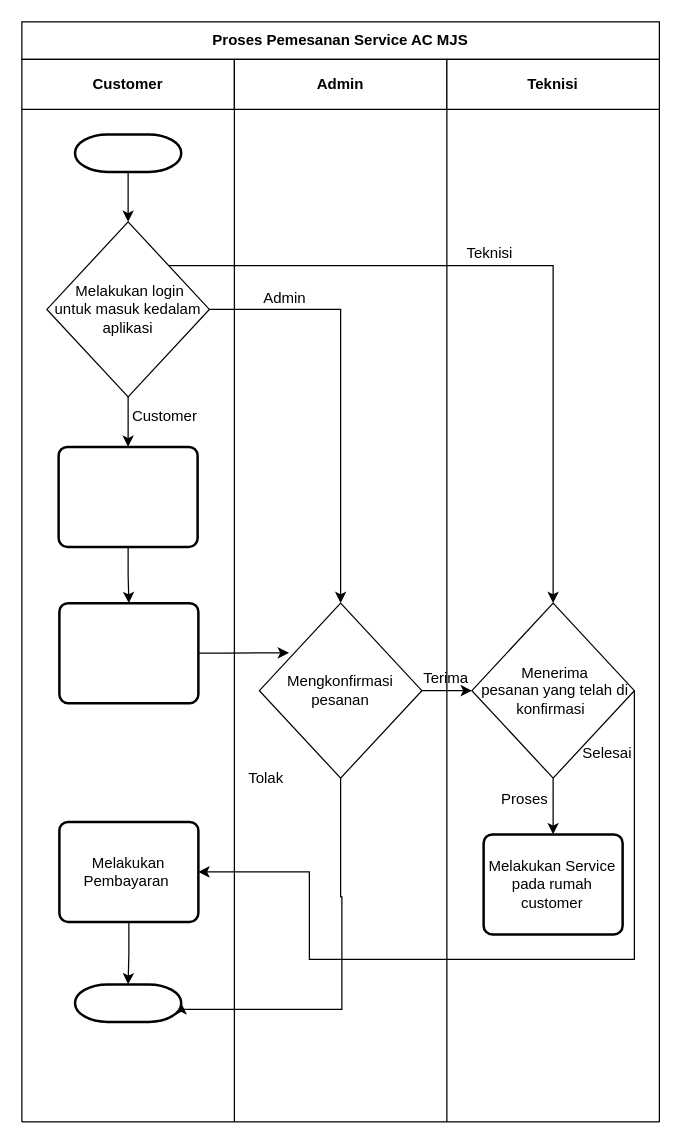
This 683x1145 diagram has some shape labels left out. The box of each missing label's shape, as (x1, y1, x2, y2) in pixels:
End: (73, 982, 182, 1022)
Memilih jenis layanan yang ada pada MJS: (57, 445, 198, 548)
Mengisi detail pemesanan: (58, 601, 199, 704)
Start: (73, 132, 182, 172)
